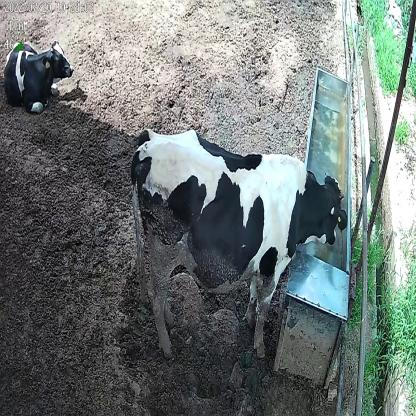cow: (129, 124, 350, 361), (2, 33, 74, 116)
